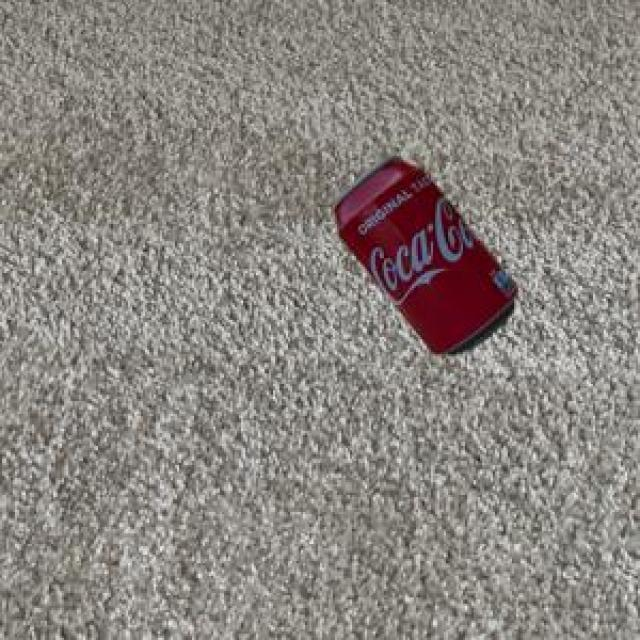Can: (332, 155, 513, 351)
